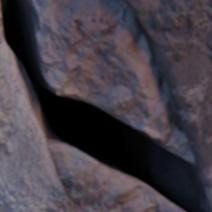brick: (123, 0, 211, 211), (0, 6, 74, 211)
crack: (0, 0, 209, 211)
